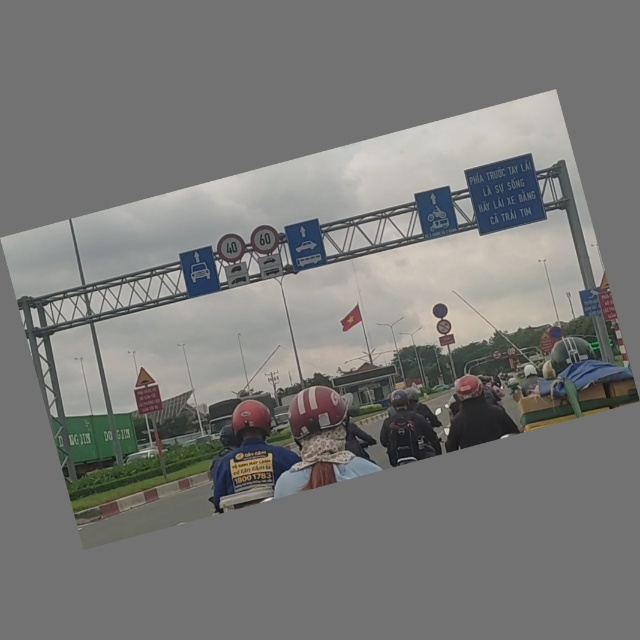Camera: (577, 287, 604, 319)
P.107: (506, 346, 517, 358), (491, 350, 502, 361)
P.111: (435, 319, 454, 336)
P.127*40: (214, 231, 249, 265)
P.127*60: (247, 223, 282, 258)
P.130: (430, 302, 450, 321)
P.131a: (547, 326, 564, 342)
W.221b: (130, 365, 155, 389), (538, 330, 550, 341)
